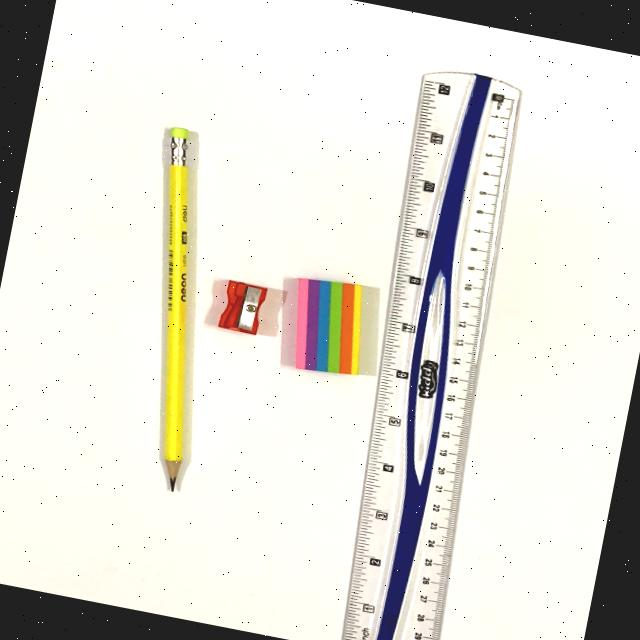Eraser: (271, 258, 387, 390)
Pencil: (133, 106, 207, 506)
Scale: (308, 45, 560, 640)
Sharpner: (207, 265, 276, 346)
